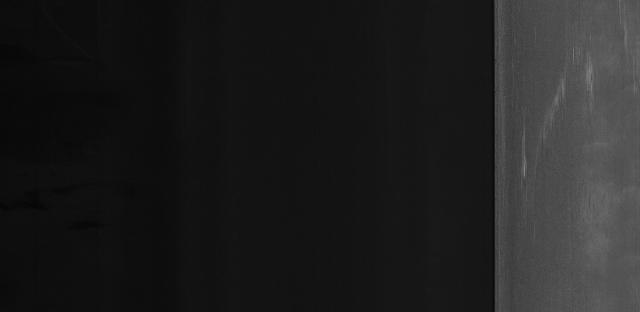silk_spot: (515, 39, 632, 208)
